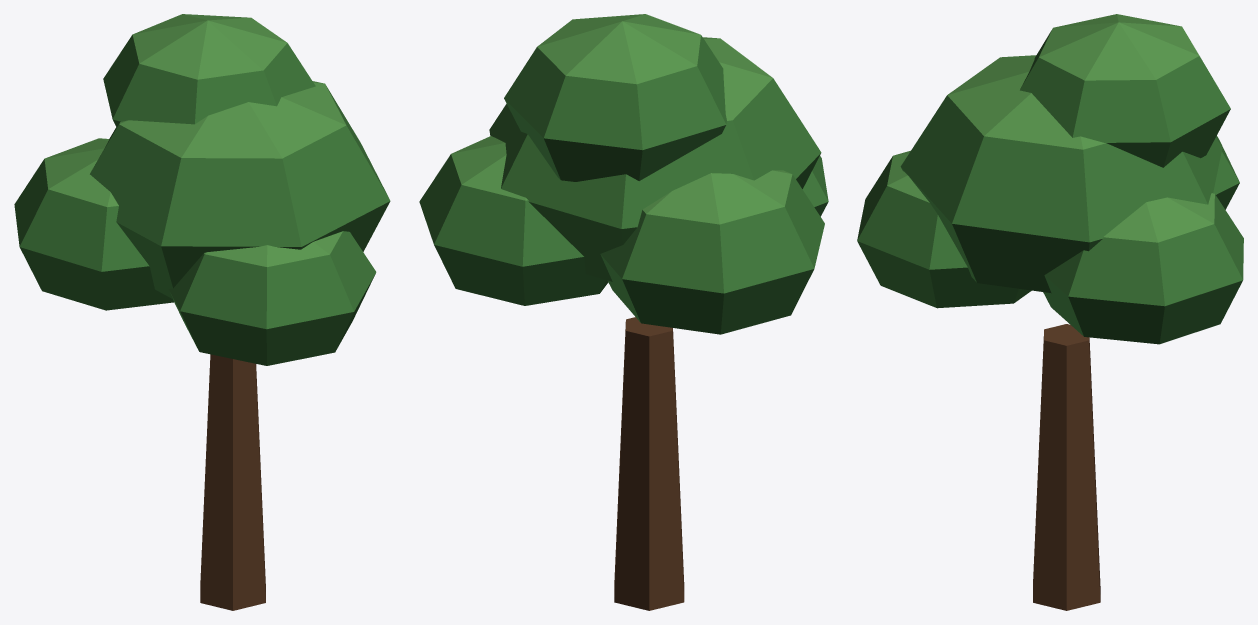
Rendered from tree_oak_dark.glb.
3 renders of one model, left to right at view 1: azimuth 30°, elevation 25°; view 2: azimuth 150°, elevation 25°; view 3: azimuth 270°, elevation 25°, orthographic. The views are drawn at different scales.
Visible parts, largest first — view 1: tree_oak_dark; view 2: tree_oak_dark; view 3: tree_oak_dark.
Part boxes in pixels (x1,y1,x2,y2): tree_oak_dark: (14, 14, 390, 610); tree_oak_dark: (419, 14, 828, 610); tree_oak_dark: (857, 14, 1243, 610).
Bounding box in the file's own units: 0.8038 × 1.21 × 0.7427.
1 material, 1 textured.
